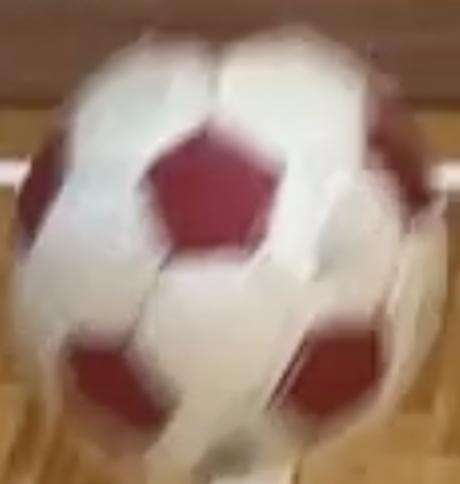Sports-Ball: (42, 27, 396, 418)
